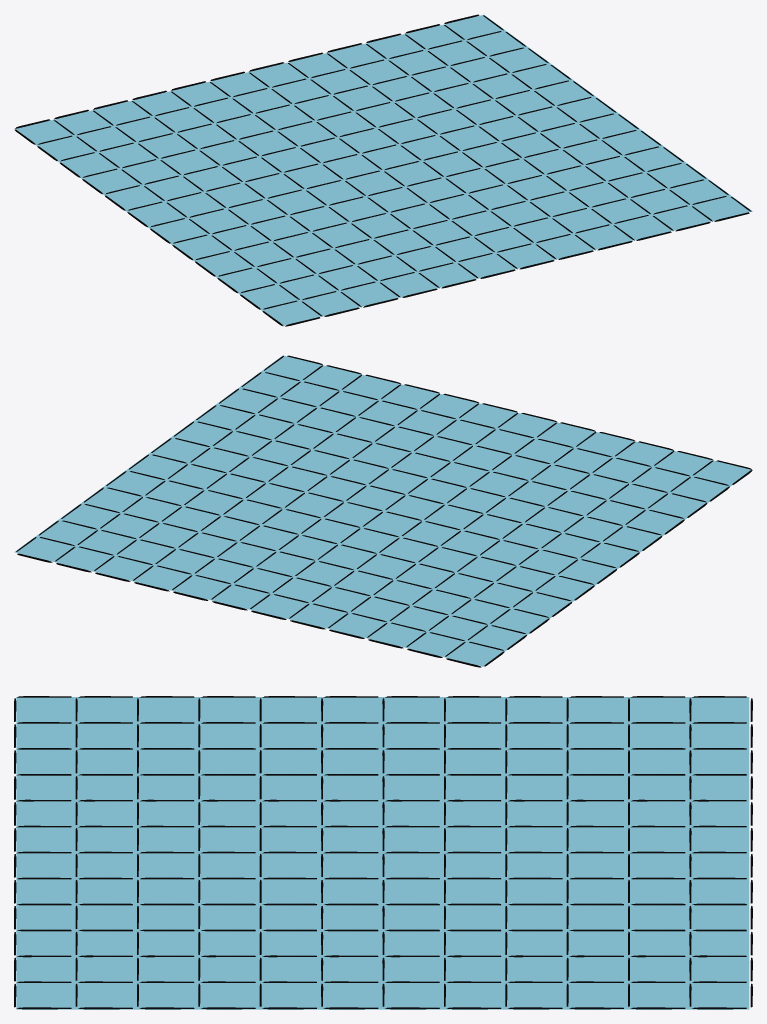
Rendered from Board3_2013.fbx.
The picture shows the model from 3 angles, top to bottom: view 1: azimuth 30°, elevation 25°; view 2: azimuth 150°, elevation 25°; view 3: azimuth 270°, elevation 25°; orthographic projection. The views are drawn at different scales.
Visible parts, largest first — view 1: pPlane1; view 2: pPlane1; view 3: pPlane1.
Part boxes in pixels (x1,y1,x2,y2): pPlane1: [14, 15, 752, 325]; pPlane1: [14, 355, 752, 666]; pPlane1: [16, 697, 749, 1009].
Size of the model in its own units: 48.23 by 0.1642 by 48.15.
